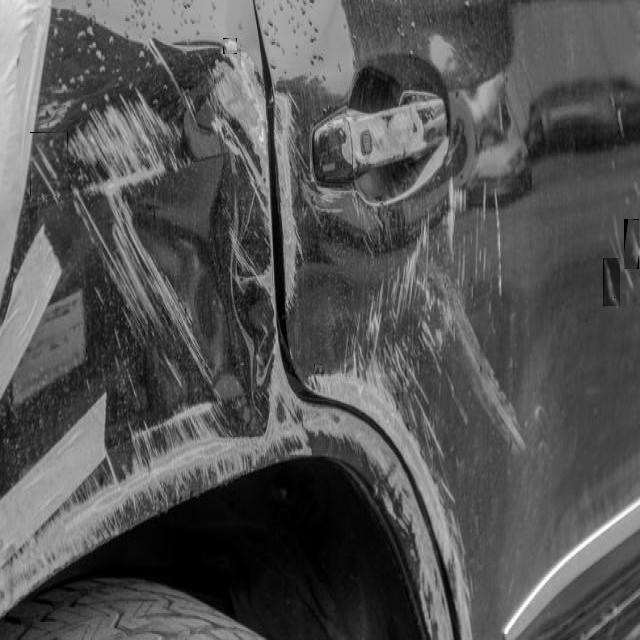Dent: (30, 132, 68, 196), (603, 258, 620, 306), (624, 219, 639, 269), (223, 38, 237, 54), (314, 364, 322, 372)
